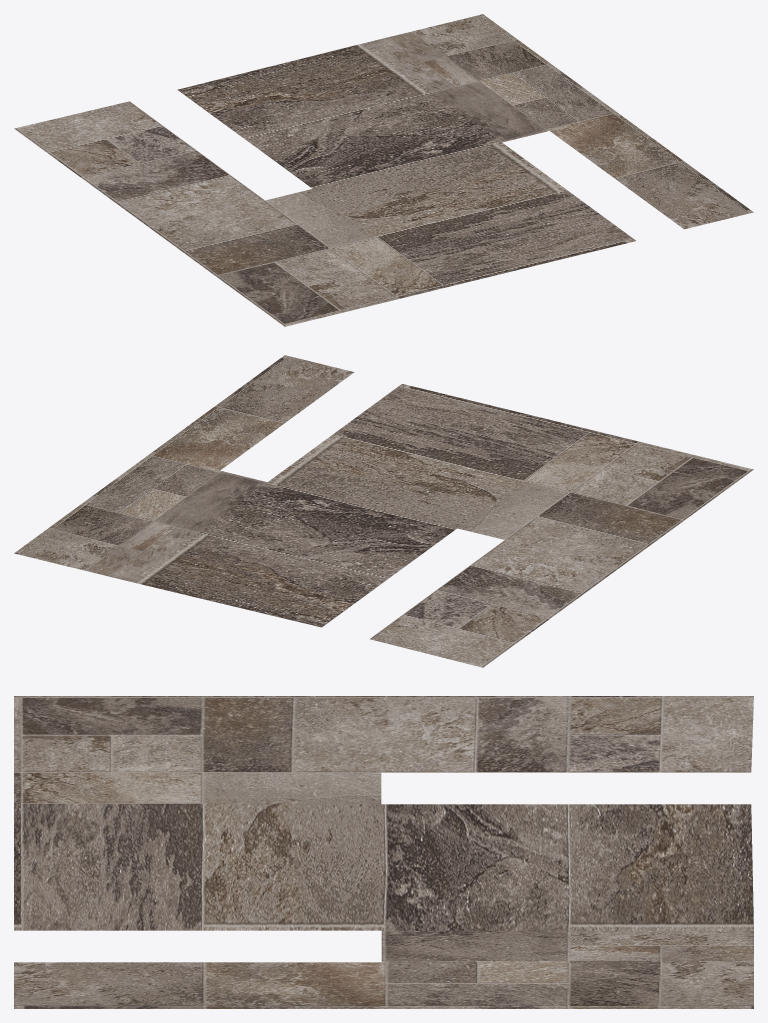
Rendered from TowerFloor.fbx.
The picture shows the model from 3 angles, top to bottom: view 1: azimuth 30°, elevation 25°; view 2: azimuth 150°, elevation 25°; view 3: azimuth 270°, elevation 25°; orthographic projection. The views are drawn at different scales.
Parts seen in each view (by area): view 1: Plane.001; view 2: Plane.001; view 3: Plane.001.
Boxes of the visible parts, box(x1,y1,x2,y2) form: Plane.001: box(14, 14, 753, 326); Plane.001: box(14, 355, 753, 667); Plane.001: box(14, 696, 753, 1008).
Bounding box in the file's own units: 1639 × 0.000267 × 1639.
